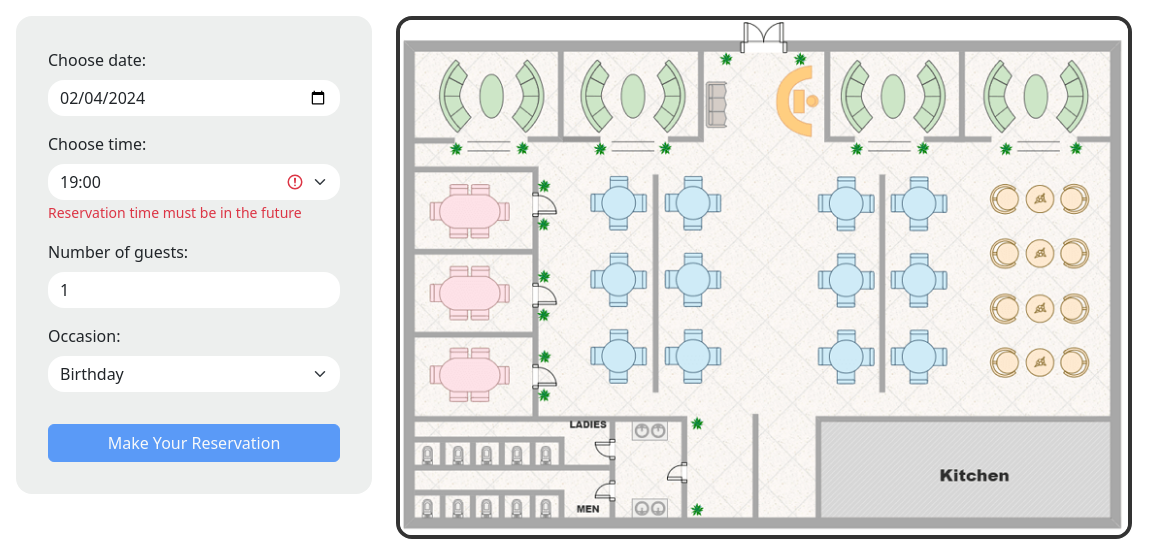
Test case: The selected date must be a valid date
Note: Simulate a change event with an invalid date
Type "invalid-date" into the date field labelled "Choose date:" at x=194, y=98, box [48,80,340,116]
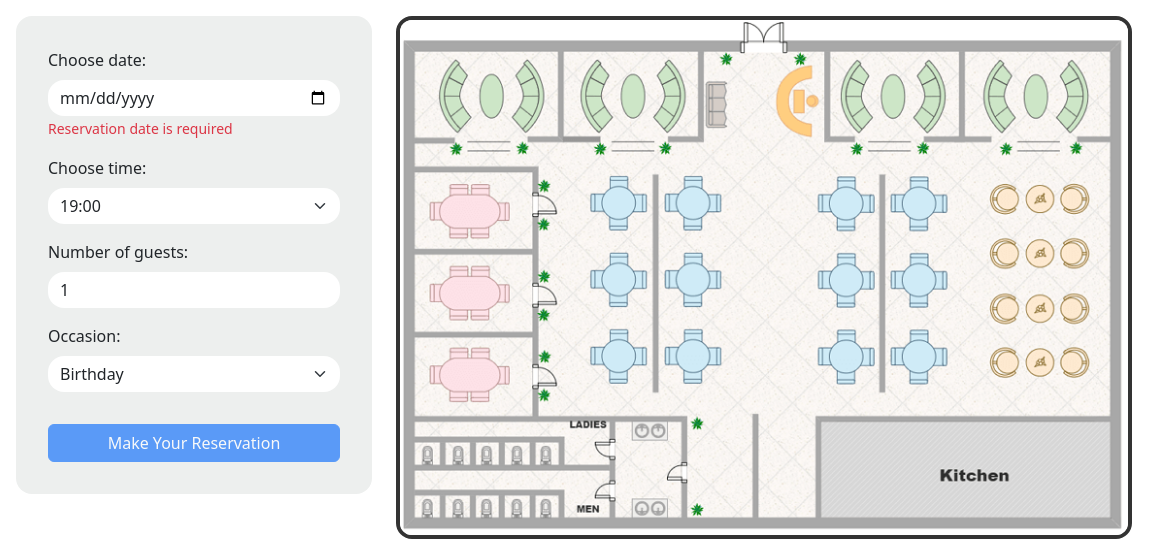
Expected: the text "Reservation date is required" is shown, [48,119,233,138]
